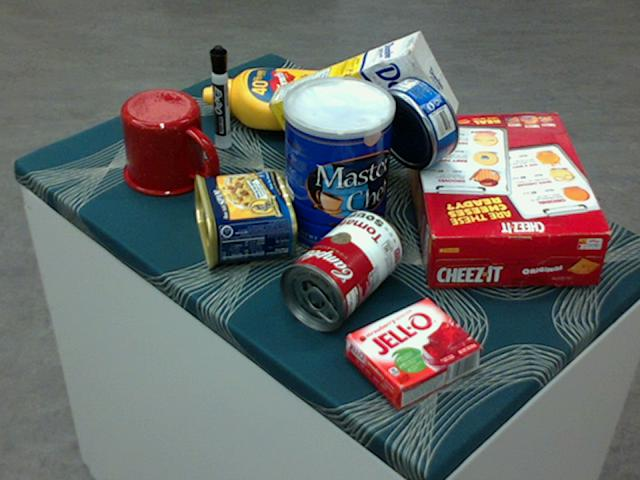cracker_box: (404, 111, 608, 287)
gelatin_box: (345, 297, 481, 407)
large_marker: (208, 44, 231, 148)
master_chef_can: (282, 77, 394, 257)
mug: (121, 88, 215, 196)
mustard_bottle: (201, 66, 368, 133)
potted_meat_can: (191, 169, 296, 269)
sugar_box: (265, 32, 457, 170)
tomato_soup_can: (277, 210, 402, 329)
tuna_fish_can: (373, 74, 459, 168)
